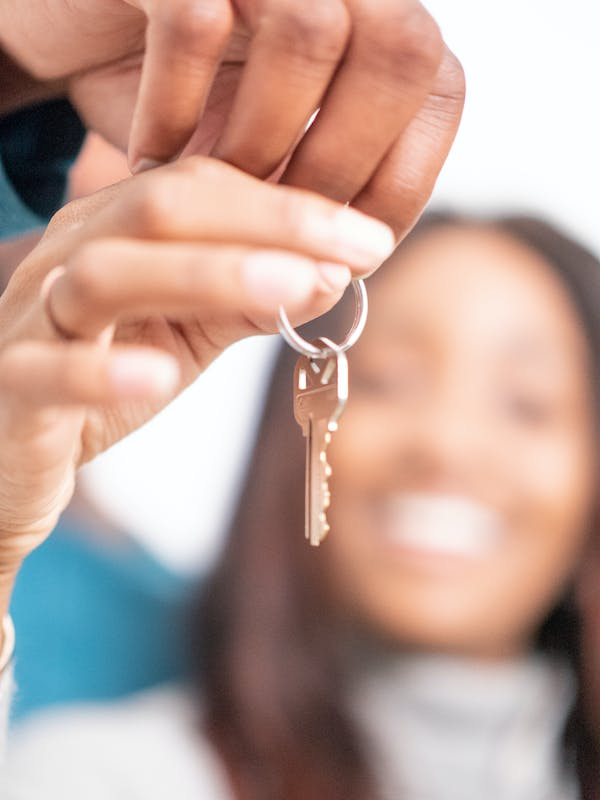key: (291, 335, 353, 548)
